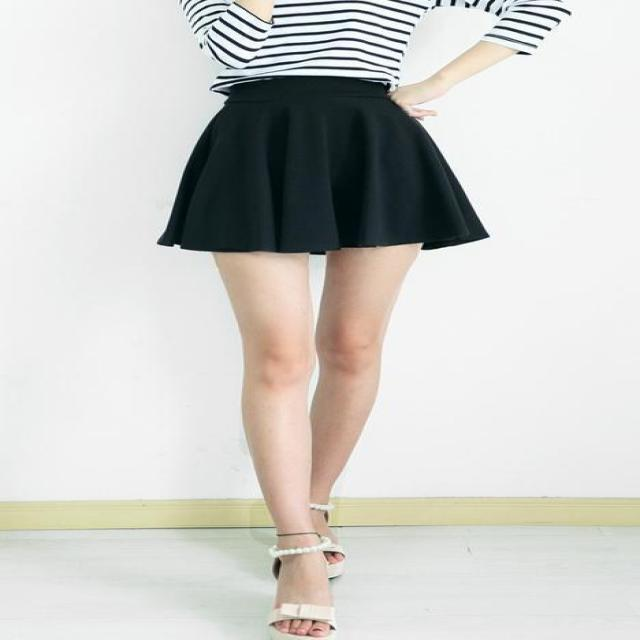long sleeve top: (226, 0, 565, 94)
skirt: (159, 78, 487, 251)
